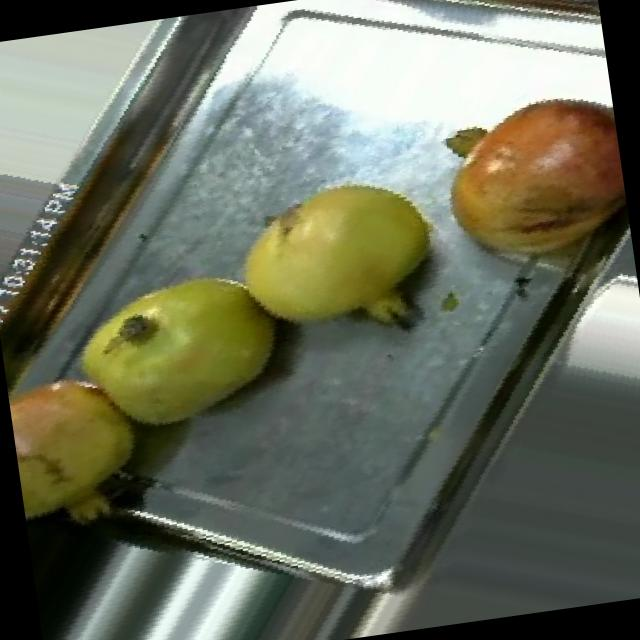fruit: (207, 146, 468, 358), (51, 248, 302, 460), (411, 70, 635, 290), (2, 341, 166, 545)
